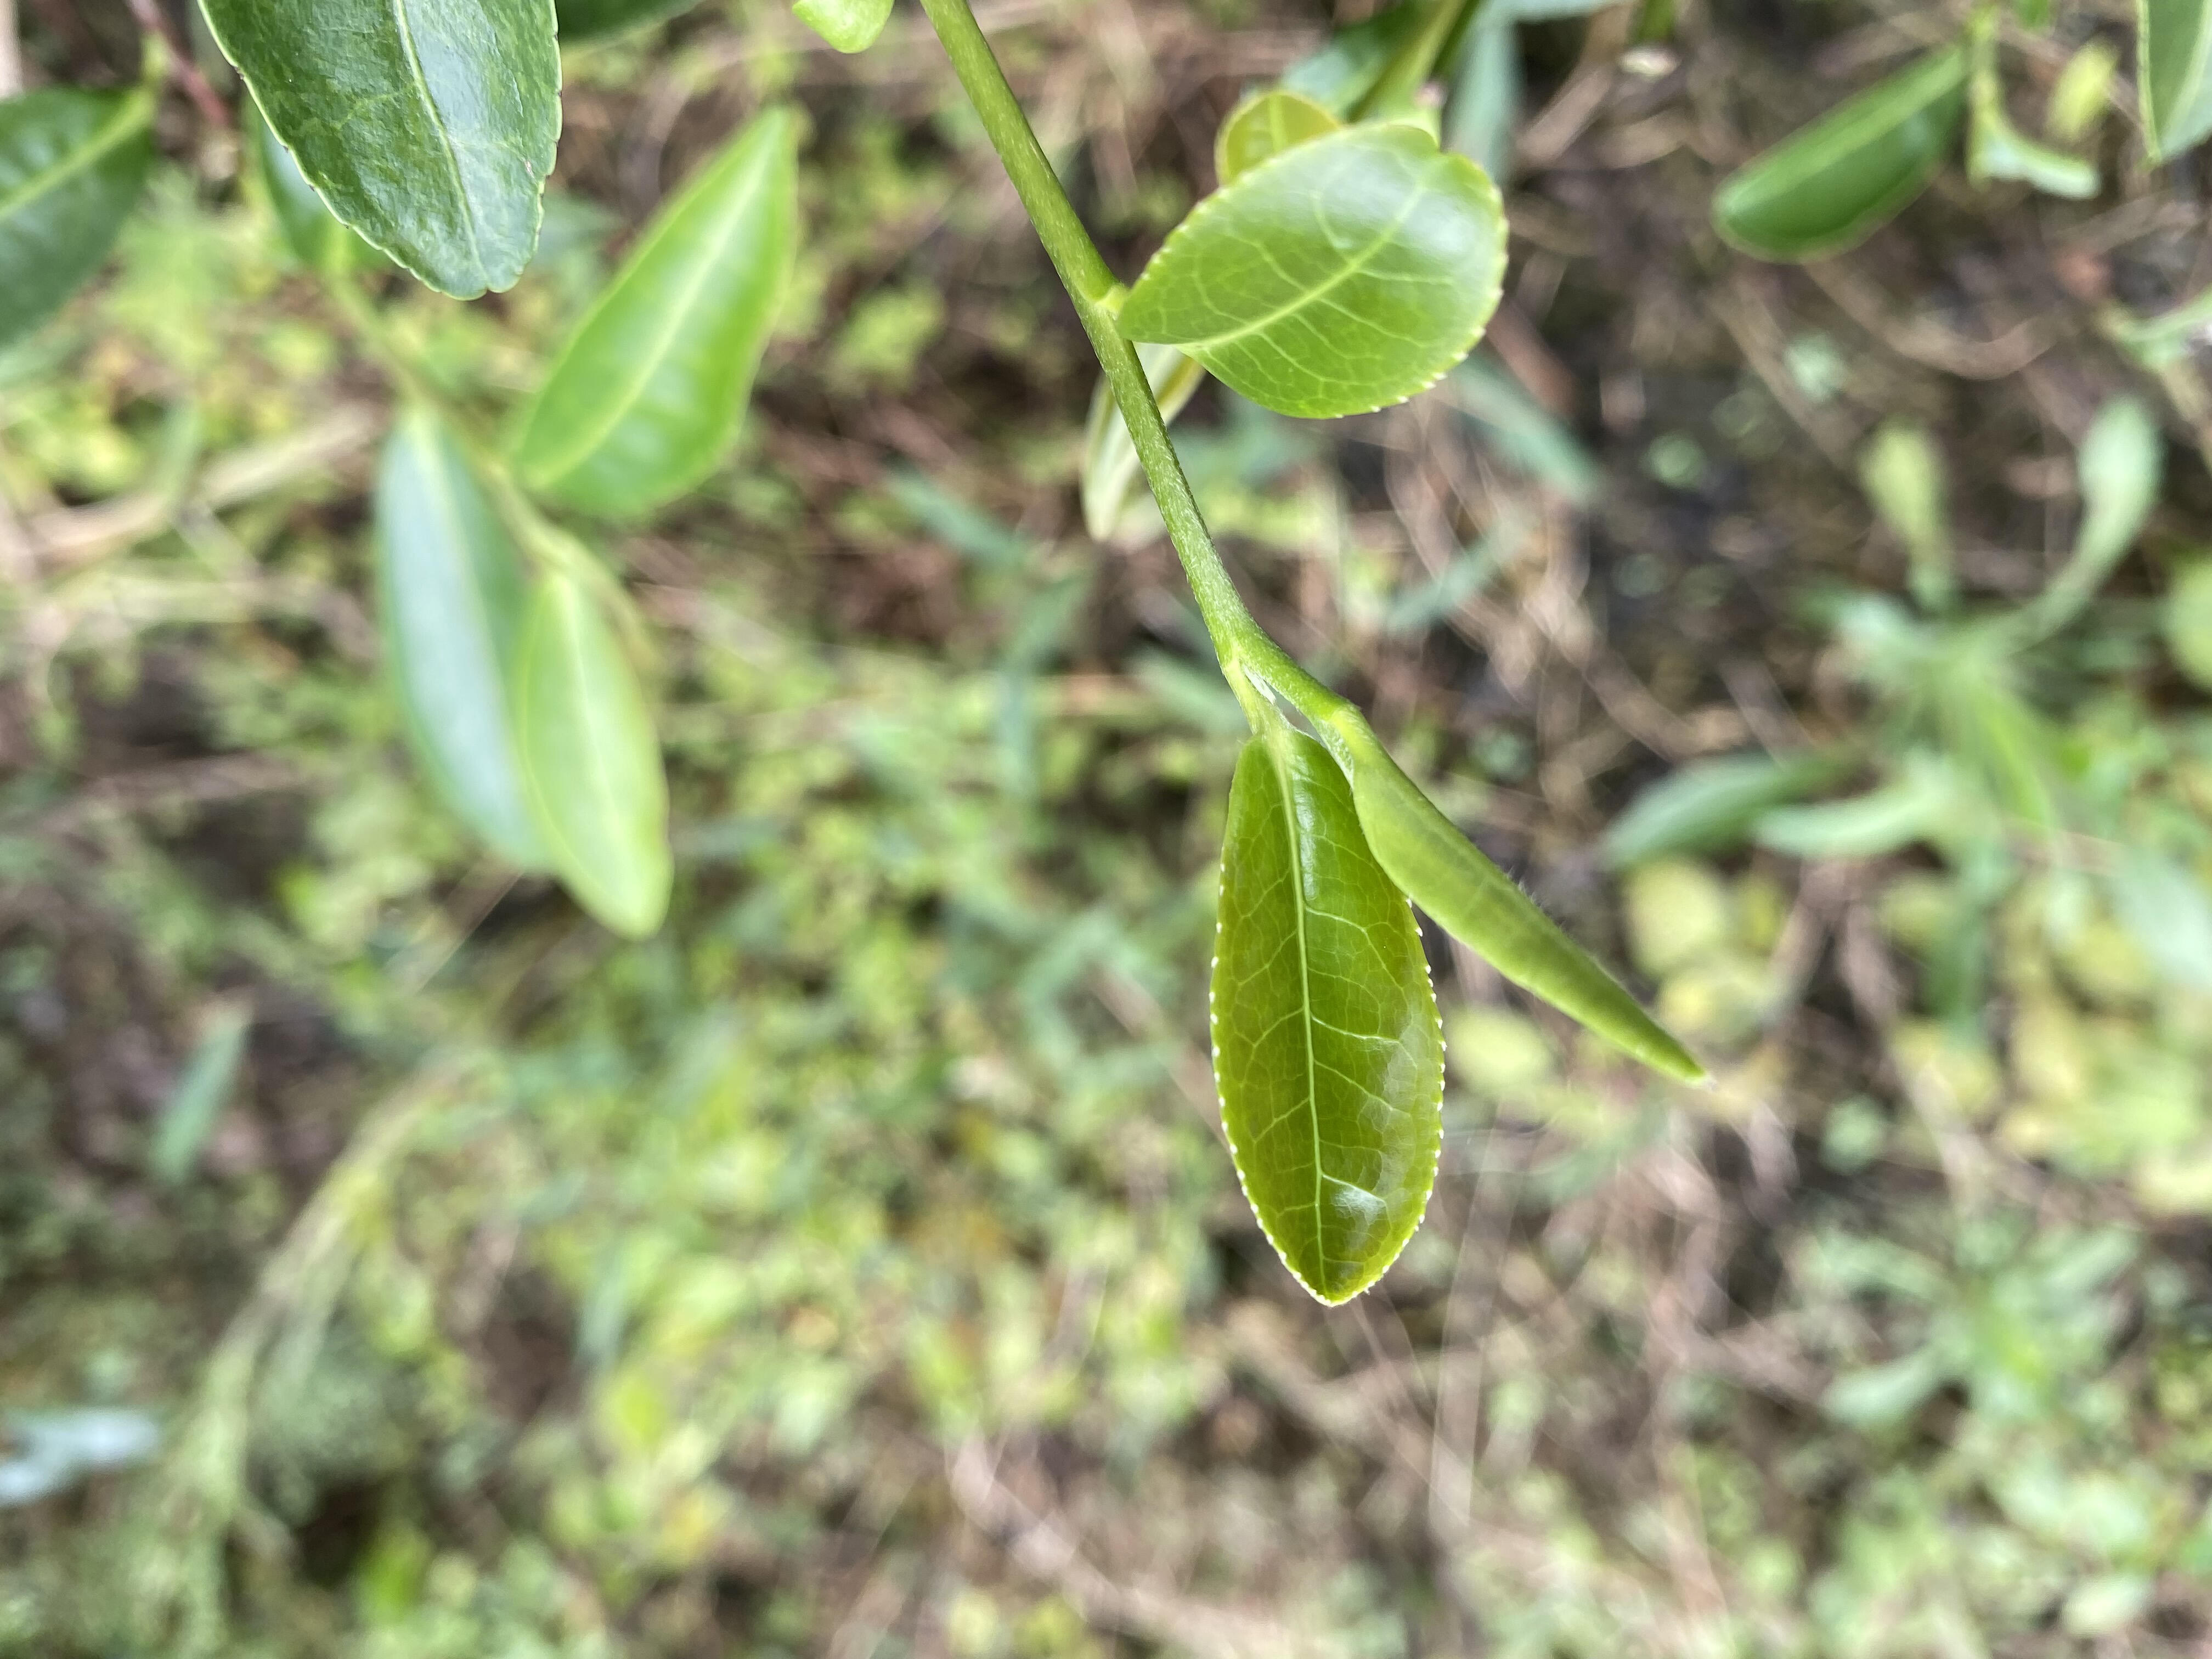healthy: (1211, 727, 1451, 1309), (1123, 124, 1512, 423), (202, 2, 570, 308)
